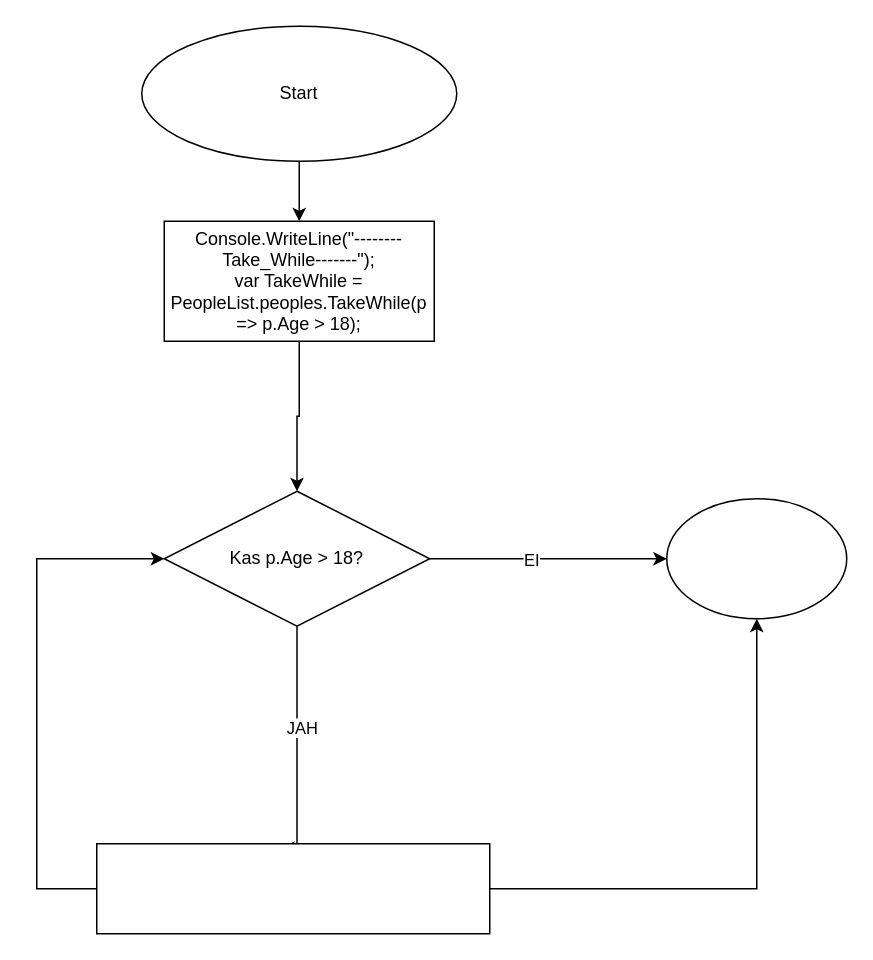
Some shapes in this 873 by 960 pixel diagram are drawn without their labels. Here are the shapes that lost their labels. From the top down, the box of each, then its label:
(665, 497, 847, 619): end
(95, 842, 490, 934): Console.WriteLine(item.Id + " " + item.Name + " " + item.Age);
